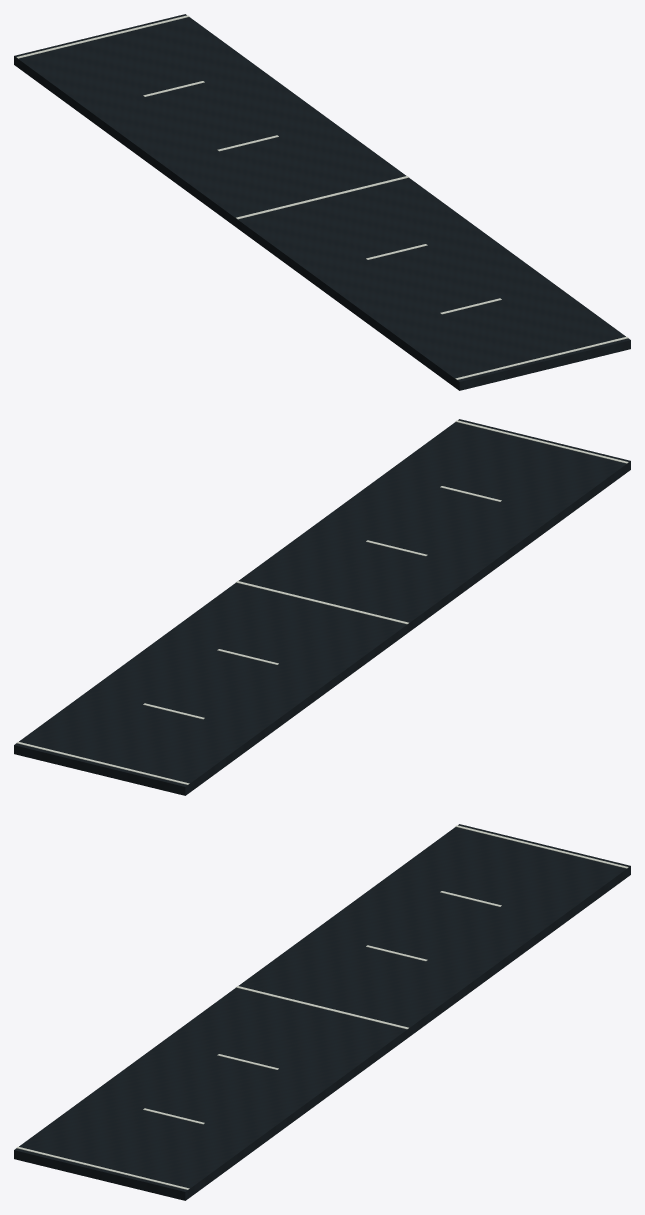
Rendered from Transit_Road_6L_Straight_4m.glb.
3 renders of one model, top to bottom at view 1: azimuth 30°, elevation 25°; view 2: azimuth 150°, elevation 25°; view 3: azimuth 330°, elevation 25°, orthographic.
Visible parts, largest first — view 1: Transit_Road_6L_Straight_4m_Surface; view 2: Transit_Road_6L_Straight_4m_Surface; view 3: Transit_Road_6L_Straight_4m_Surface.
Part boxes in pixels (x1,y1,x2,y2): Transit_Road_6L_Straight_4m_Surface: [14, 14, 630, 390]; Transit_Road_6L_Straight_4m_Surface: [14, 419, 630, 795]; Transit_Road_6L_Straight_4m_Surface: [14, 824, 630, 1200].
Bounding box in the file's own units: 4 × 0.212 × 18.
Materials: 2 (1 with a texture image).
